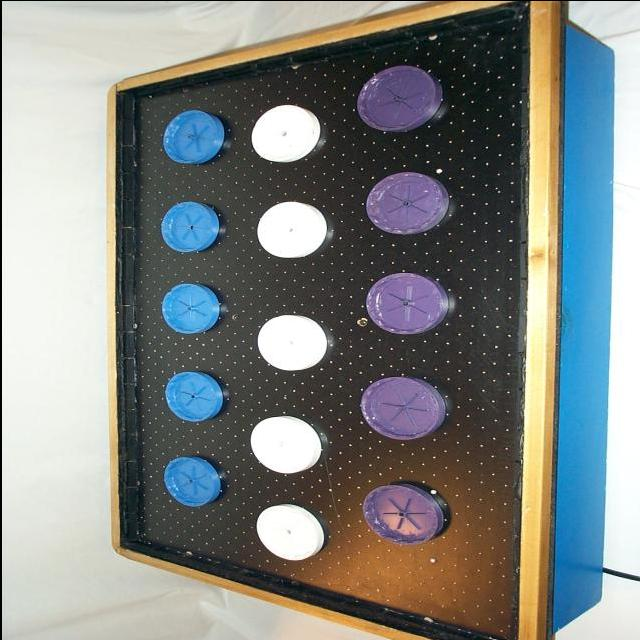chip: (162, 109, 215, 163), (165, 371, 222, 420), (160, 283, 216, 332), (162, 200, 218, 248), (162, 457, 220, 503)
